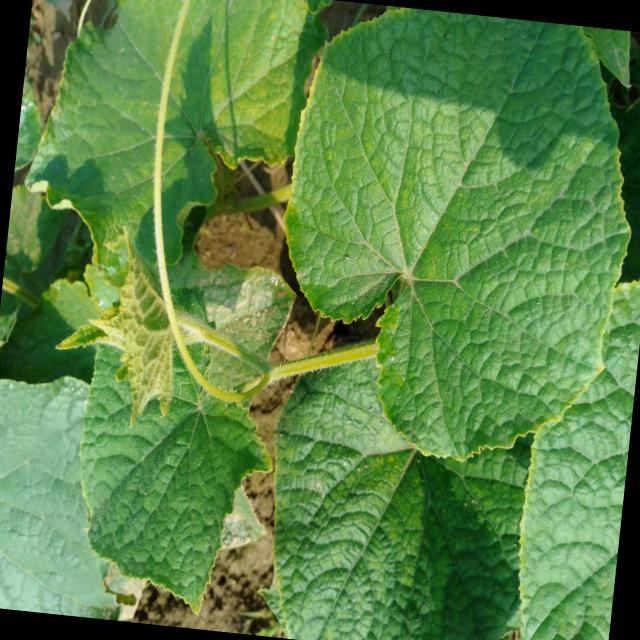cucumber_healthy: (254, 0, 640, 484), (252, 337, 556, 640), (13, 0, 321, 297), (63, 336, 284, 624), (503, 253, 640, 640), (0, 356, 155, 622), (43, 214, 210, 433)
